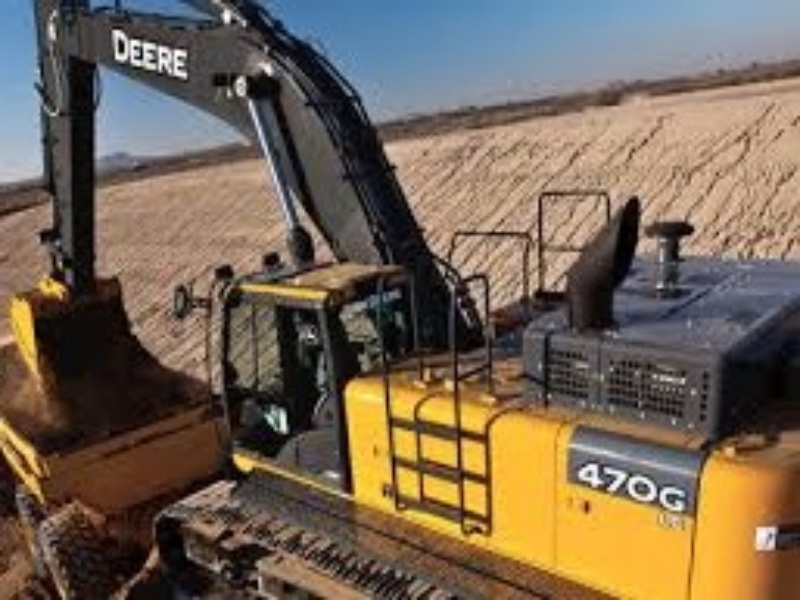wajueji: (138, 160, 800, 580)
